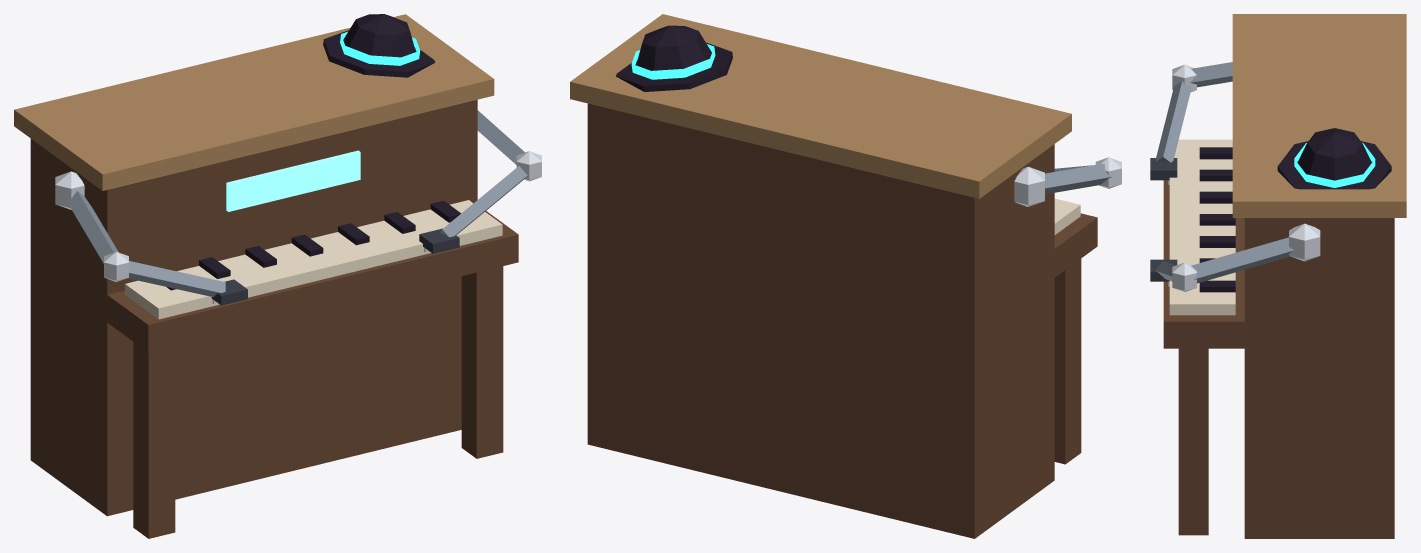
Rendered from Prop_Piano_Robot.fbx.
3 renders of one model, left to right at view 1: azimuth 30°, elevation 25°; view 2: azimuth 150°, elevation 25°; view 3: azimuth 270°, elevation 25°, orthographic. The views are drawn at different scales.
Visible parts, largest first — view 1: Prop_Piano_Robot_Body, Prop_Piano_Robot_Arm_L, Prop_Piano_Robot_Arm_R; view 2: Prop_Piano_Robot_Body, Prop_Piano_Robot_Arm_L; view 3: Prop_Piano_Robot_Body, Prop_Piano_Robot_Arm_R, Prop_Piano_Robot_Arm_L.
Part boxes in pixels (box(x1,y1,x2,y2)): Prop_Piano_Robot_Body: box(14, 14, 518, 538); Prop_Piano_Robot_Arm_L: box(55, 171, 247, 305); Prop_Piano_Robot_Arm_R: box(419, 110, 541, 253); Prop_Piano_Robot_Body: box(570, 14, 1097, 538); Prop_Piano_Robot_Arm_L: box(1014, 157, 1121, 206); Prop_Piano_Robot_Body: box(1163, 14, 1406, 538); Prop_Piano_Robot_Arm_R: box(1150, 223, 1320, 292); Prop_Piano_Robot_Arm_L: box(1150, 62, 1232, 184).
Bounding box in the file's own units: 1.66 × 1.41 × 0.855.
